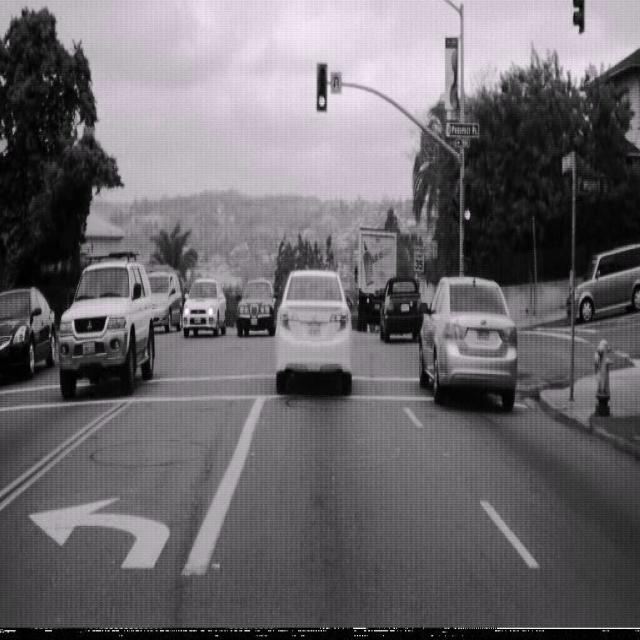speedLimit35: (413, 243, 425, 273)
